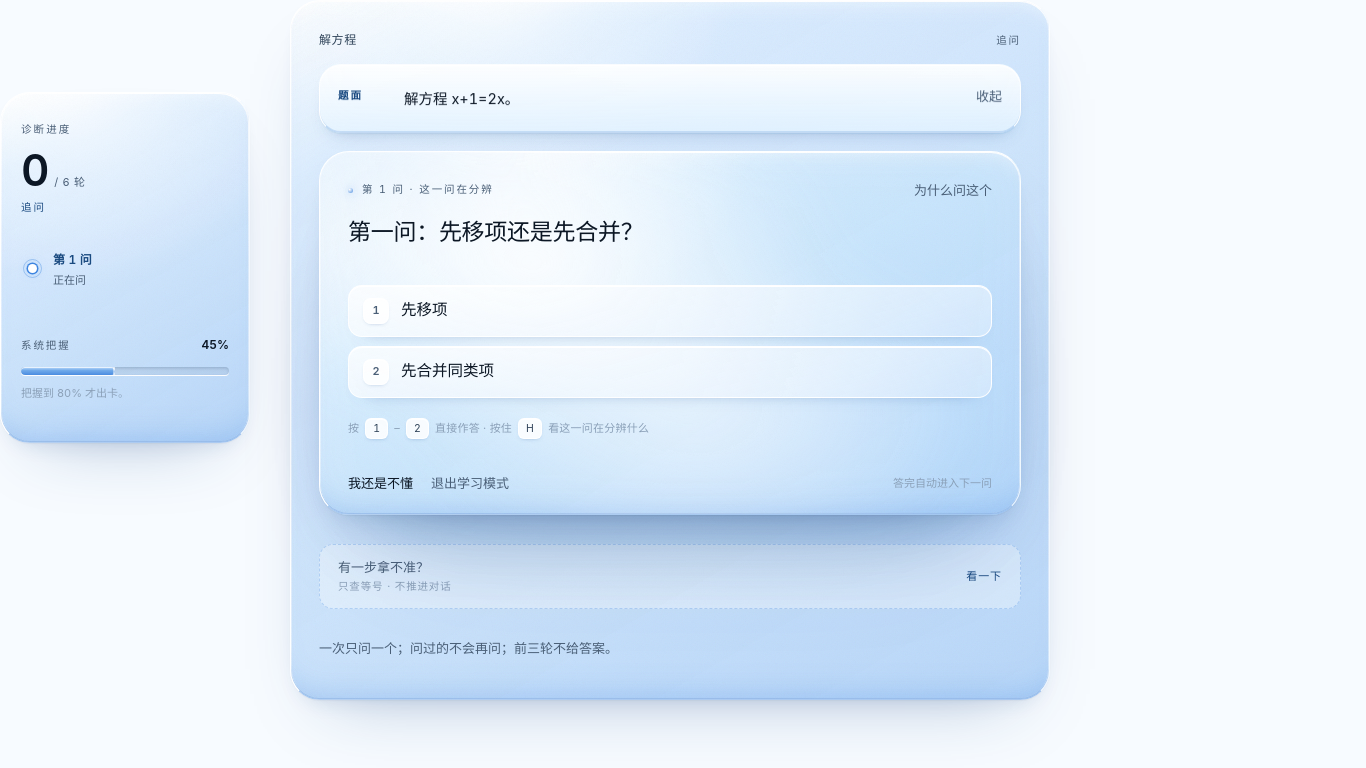
Test: DiagnosePage conflict recovery › reloads the latest state instead of replaying a stale answer
Expected: the text "第一问：先移项还是先合并？" is shown, [348, 218, 643, 246]
Click the button "1 先移项" at (424, 310), box [348, 285, 992, 337]
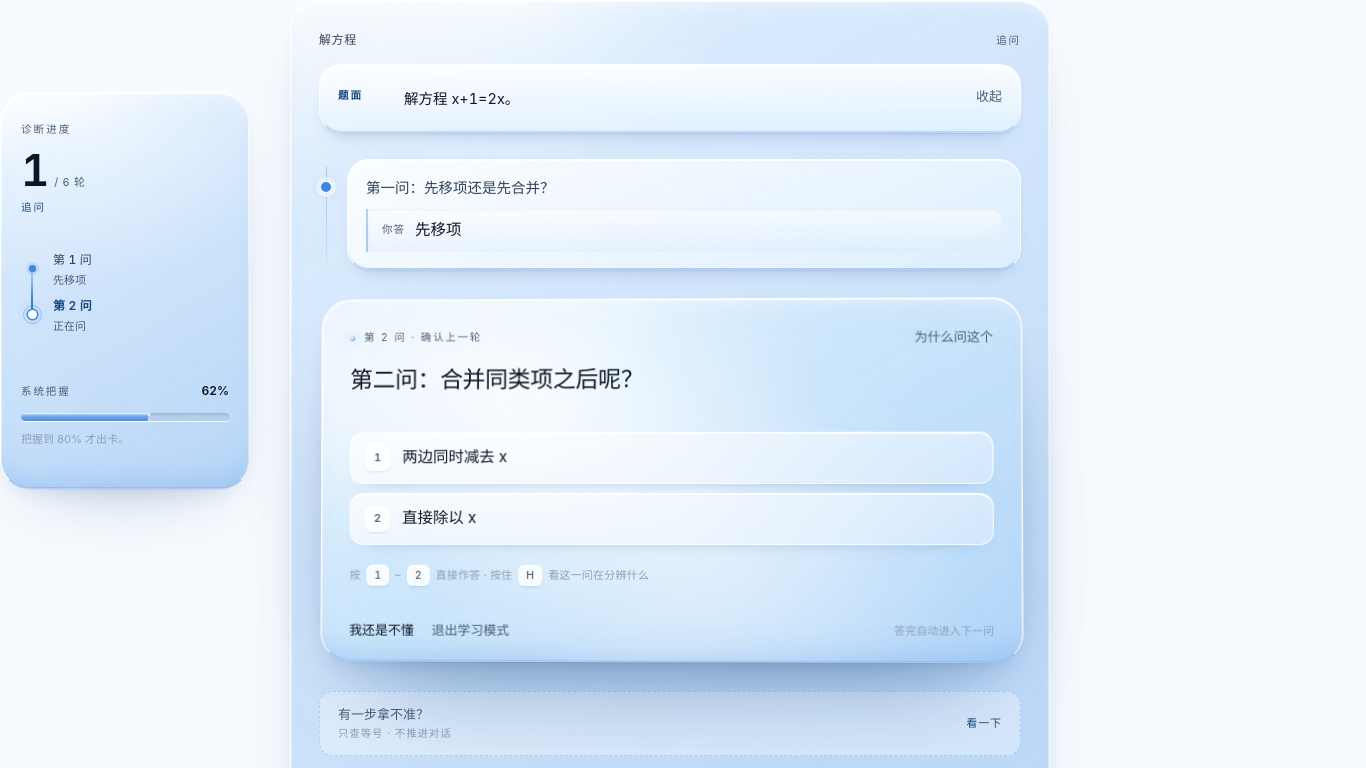
Expected: the text "第二问：合并同类项之后呢？" is shown, [350, 366, 644, 394]
